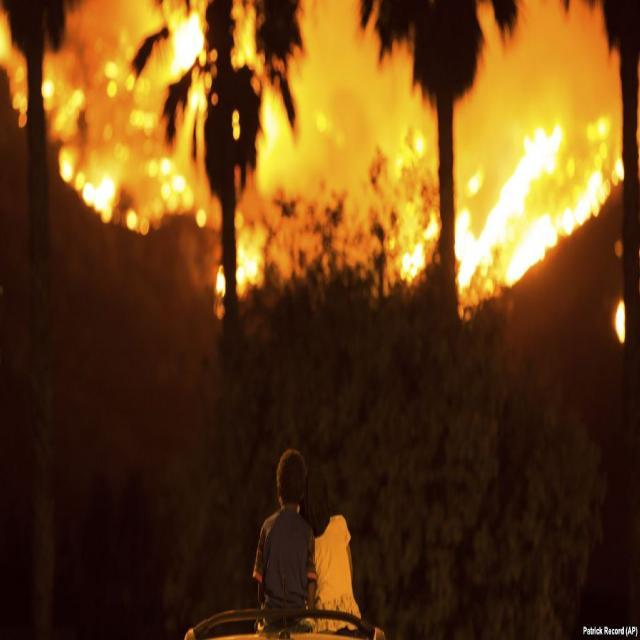Fire: (17, 21, 300, 292), (393, 102, 640, 342)
